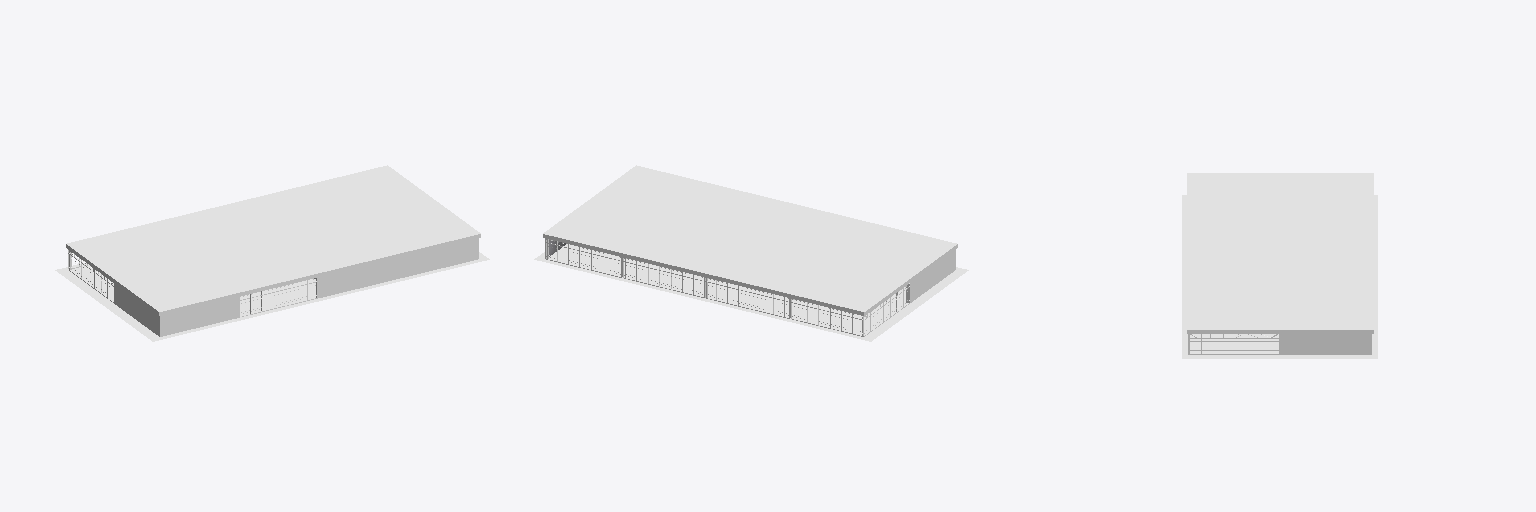
3 views of the same model, side by side, from view 1: azimuth 30°, elevation 25°; view 2: azimuth 150°, elevation 25°; view 3: azimuth 270°, elevation 25° (orthographic).
Parts seen in each view (by area): view 1: Box025, Box018, Plane001, Box017; view 2: Box025, Plane001, Box017, Box018; view 3: Box025, Plane001, Box018.
Boxes of the visible parts, x1,y1,x2,y2 form: Box025: [66, 165, 480, 315]; Box018: [114, 238, 478, 336]; Plane001: [55, 252, 489, 341]; Box017: [68, 250, 316, 317]; Box025: [543, 165, 957, 315]; Plane001: [534, 244, 968, 341]; Box017: [546, 239, 909, 336]; Box018: [545, 239, 955, 302]; Box025: [1187, 173, 1373, 333]; Plane001: [1182, 195, 1377, 358]; Box018: [1188, 334, 1371, 354].
Bounding box in the file's own units: 654 × 43.57 × 300.
6 materials, 1 textured.